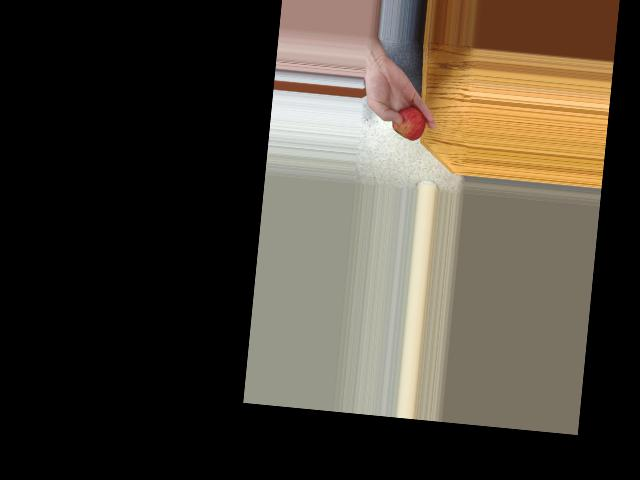apple: (386, 102, 427, 143)
